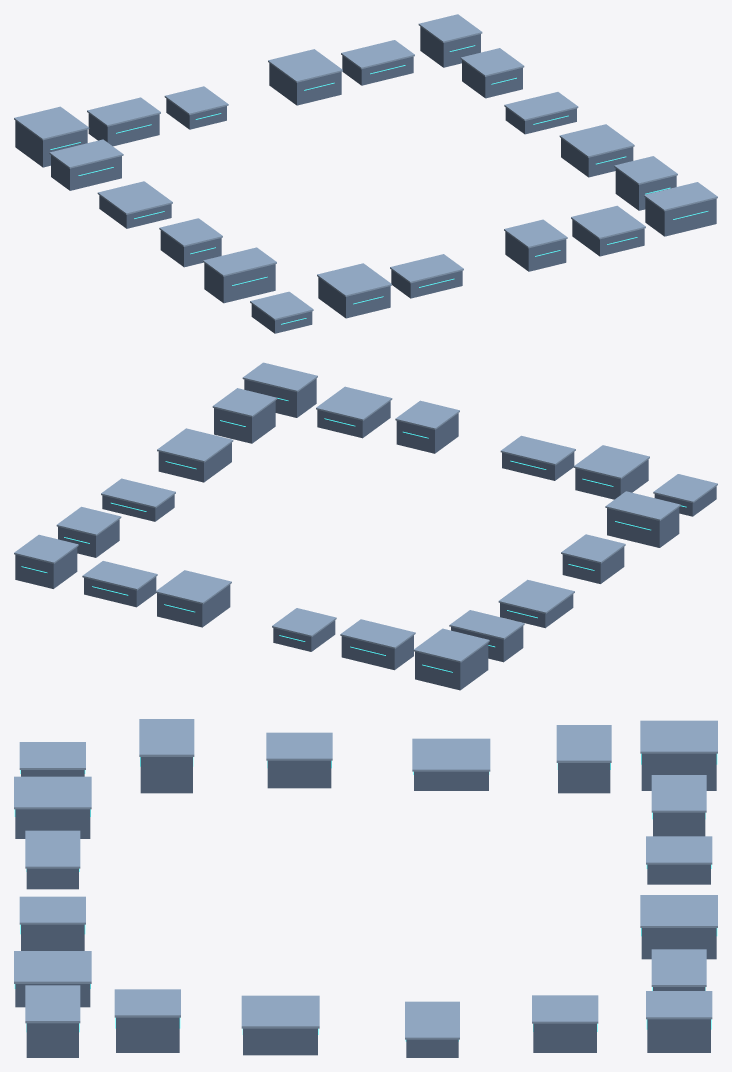
The model's file is 00_static_backdrop.glb.
3 views of the same model, one above another, from view 1: azimuth 30°, elevation 25°; view 2: azimuth 150°, elevation 25°; view 3: azimuth 270°, elevation 25° (orthographic). The views are drawn at different scales.
Parts seen in each view (by area): view 1: skyline_backdrop_west_0_body_nocol_noshadow, skyline_backdrop_north_5_body_nocol_noshadow, skyline_backdrop_south_3_body_nocol_noshadow, skyline_backdrop_west_3_body_nocol_noshadow, skyline_backdrop_north_1_body_nocol_noshadow, skyline_backdrop_south_0_body_nocol_noshadow, skyline_backdrop_south_1_body_nocol_noshadow, skyline_backdrop_north_3_body_nocol_noshadow, skyline_backdrop_south_0_roof_nocol_noshadow, skyline_backdrop_east_1_roof_nocol_noshadow, skyline_backdrop_west_2_roof_nocol_noshadow, skyline_backdrop_south_3_roof_nocol_noshadow (+28 smaller); view 2: skyline_backdrop_south_0_body_nocol_noshadow, skyline_backdrop_west_0_body_nocol_noshadow, skyline_backdrop_south_3_body_nocol_noshadow, skyline_backdrop_east_0_body_nocol_noshadow, skyline_backdrop_south_5_body_nocol_noshadow, skyline_backdrop_south_1_body_nocol_noshadow, skyline_backdrop_north_1_body_nocol_noshadow, skyline_backdrop_north_3_body_nocol_noshadow, skyline_backdrop_east_1_body_nocol_noshadow, skyline_backdrop_south_3_roof_nocol_noshadow, skyline_backdrop_east_1_roof_nocol_noshadow, skyline_backdrop_south_0_roof_nocol_noshadow (+28 smaller); view 3: skyline_backdrop_east_1_roof_nocol_noshadow, skyline_backdrop_west_2_roof_nocol_noshadow, skyline_backdrop_north_1_roof_nocol_noshadow, skyline_backdrop_south_0_roof_nocol_noshadow, skyline_backdrop_north_4_roof_nocol_noshadow, skyline_backdrop_south_3_roof_nocol_noshadow, skyline_backdrop_east_0_body_nocol_noshadow, skyline_backdrop_north_2_roof_nocol_noshadow, skyline_backdrop_north_5_roof_nocol_noshadow, skyline_backdrop_south_5_body_nocol_noshadow, skyline_backdrop_east_2_roof_nocol_noshadow, skyline_backdrop_south_1_roof_nocol_noshadow (+26 smaller).
Boxes of the visible parts, x1,y1,x2,y2 form: skyline_backdrop_west_0_body_nocol_noshadow: (204,263,275,303); skyline_backdrop_north_5_body_nocol_noshadow: (645,198,716,236); skyline_backdrop_south_3_body_nocol_noshadow: (269,63,341,105); skyline_backdrop_west_3_body_nocol_noshadow: (51,155,121,190); skyline_backdrop_north_1_body_nocol_noshadow: (318,277,390,318); skyline_backdrop_south_0_body_nocol_noshadow: (15,120,87,167); skyline_backdrop_south_1_body_nocol_noshadow: (88,113,159,146); skyline_backdrop_north_3_body_nocol_noshadow: (505,232,566,271); skyline_backdrop_south_0_roof_nocol_noshadow: (14,106,89,140); skyline_backdrop_east_1_roof_nocol_noshadow: (559,124,634,157); skyline_backdrop_west_2_roof_nocol_noshadow: (97,181,172,214); skyline_backdrop_south_3_roof_nocol_noshadow: (268,49,342,82); skyline_backdrop_south_0_body_nocol_noshadow: (415,643,488,690); skyline_backdrop_west_0_body_nocol_noshadow: (607,507,679,547); skyline_backdrop_south_3_body_nocol_noshadow: (157,584,230,627); skyline_backdrop_east_0_body_nocol_noshadow: (214,401,275,443); skyline_backdrop_south_5_body_nocol_noshadow: (15,547,77,588); skyline_backdrop_south_1_body_nocol_noshadow: (341,635,413,670); skyline_backdrop_north_1_body_nocol_noshadow: (575,459,648,499); skyline_backdrop_north_3_body_nocol_noshadow: (396,413,458,453); skyline_backdrop_east_1_body_nocol_noshadow: (158,442,231,482); skyline_backdrop_south_3_roof_nocol_noshadow: (155,570,231,604); skyline_backdrop_east_1_roof_nocol_noshadow: (157,428,233,462); skyline_backdrop_south_0_roof_nocol_noshadow: (413,628,489,662); skyline_backdrop_east_1_roof_nocol_noshadow: (241,995,319,1028); skyline_backdrop_west_2_roof_nocol_noshadow: (412,738,490,771); skyline_backdrop_north_1_roof_nocol_noshadow: (14,776,91,809); skyline_backdrop_south_0_roof_nocol_noshadow: (640,720,717,753); skyline_backdrop_north_4_roof_nocol_noshadow: (14,951,91,983); skyline_backdrop_south_3_roof_nocol_noshadow: (640,895,717,927); skyline_backdrop_east_0_body_nocol_noshadow: (116,1017,179,1052); skyline_backdrop_north_2_roof_nocol_noshadow: (25,830,80,868); skyline_backdrop_north_5_roof_nocol_noshadow: (25,985,80,1023); skyline_backdrop_south_5_body_nocol_noshadow: (647,1019,710,1052); skyline_backdrop_east_2_roof_nocol_noshadow: (405,1001,459,1039); skyline_backdrop_south_1_roof_nocol_noshadow: (651,775,706,812).
Size of the model in its own units: 749 by 46.4 by 742.
